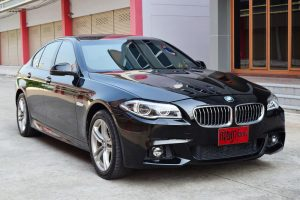sedan: (14, 32, 287, 181)
